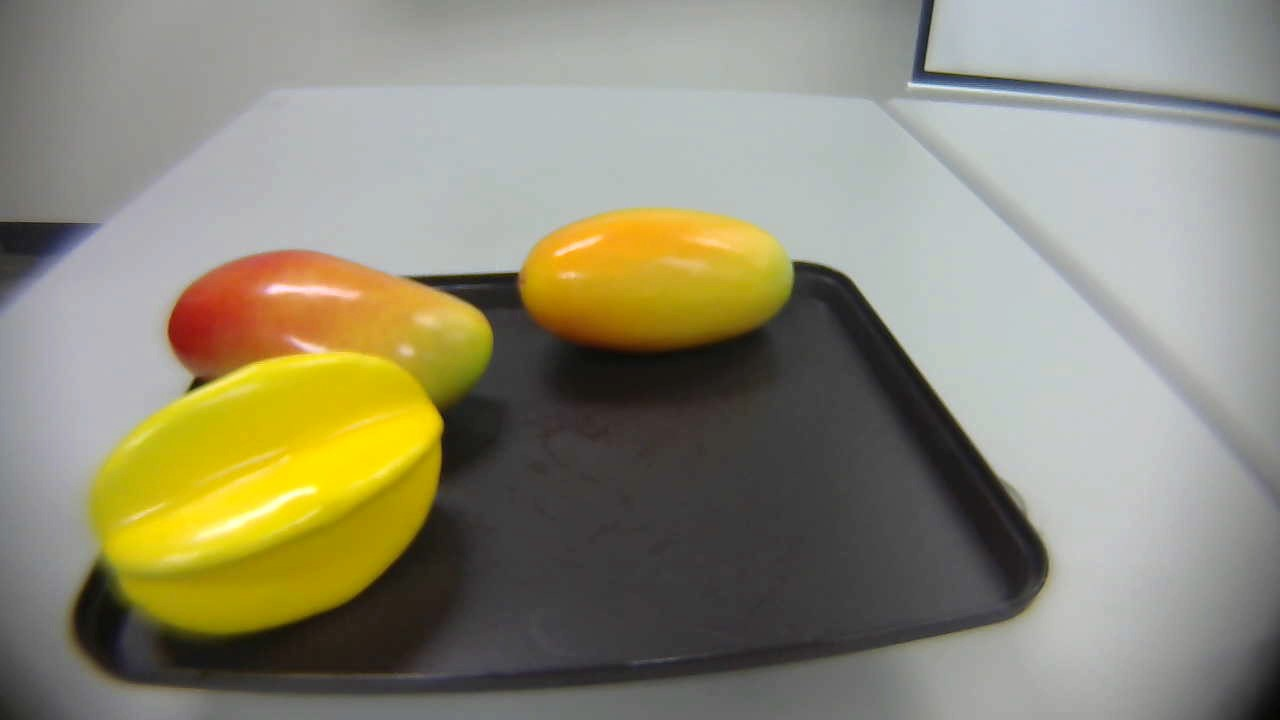red mango: (167, 253, 495, 409)
star fruit: (84, 356, 458, 638)
yellow mango: (513, 202, 805, 352)
